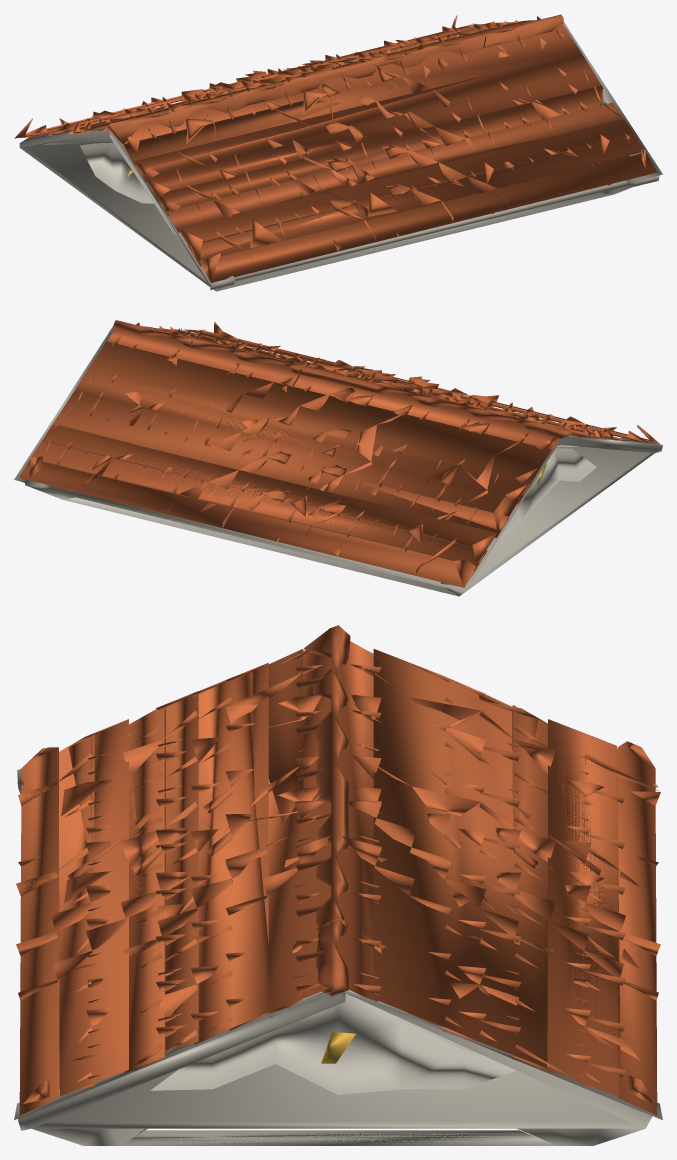
The model's file is home_villa-roof_t1_terracotta.glb.
3 renders of one model, top to bottom at view 1: azimuth 30°, elevation 25°; view 2: azimuth 150°, elevation 25°; view 3: azimuth 270°, elevation 25°, orthographic. The views are drawn at different scales.
Visible parts, largest first — view 1: tile2, tile0, tile1, marble; view 2: tile1, tile2, tile0, marble; view 3: tile2, tile1, tile0, marble.
Part boxes in pixels (x1,y1,x2,y2): tile2: (25, 21, 644, 269); tile0: (14, 15, 657, 282); tile1: (15, 14, 630, 266); marble: (19, 22, 662, 291); tile1: (45, 320, 648, 583); tile2: (30, 326, 648, 575); tile0: (19, 322, 659, 587); marble: (14, 326, 662, 596); tile2: (16, 641, 660, 1097); tile1: (59, 625, 625, 1090); tile0: (16, 662, 660, 1115); marble: (14, 651, 662, 1145).
Bounding box in the file's own units: 7.35 × 1.81 × 5.68.
